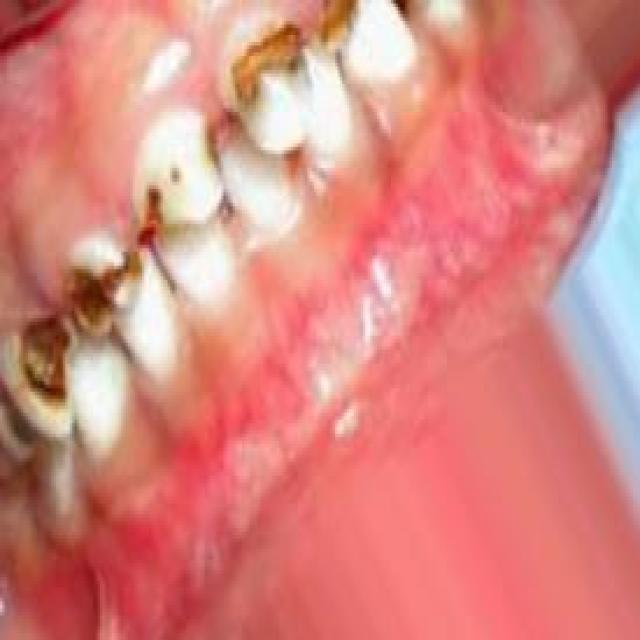caries: (217, 2, 307, 154), (0, 297, 81, 444), (59, 226, 146, 340), (132, 127, 198, 247), (308, 0, 367, 71)
